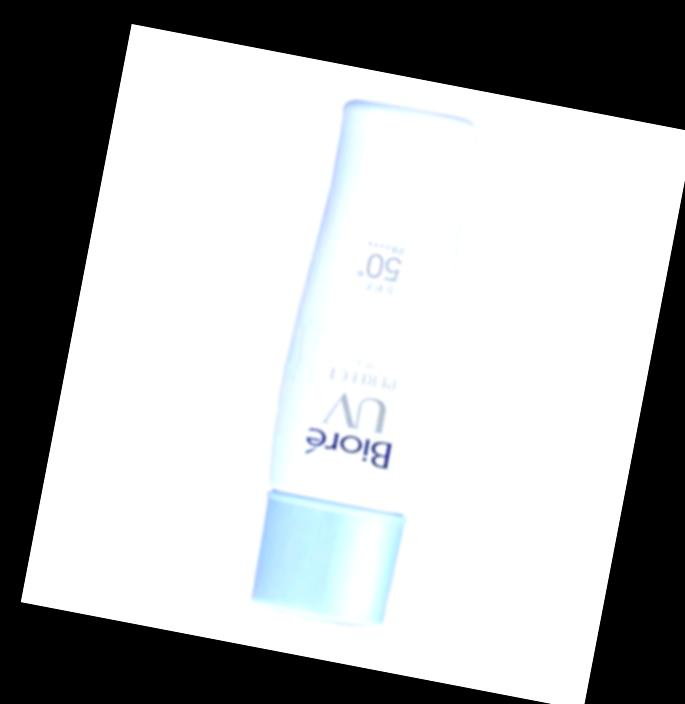cosmetic: (241, 98, 485, 626)
